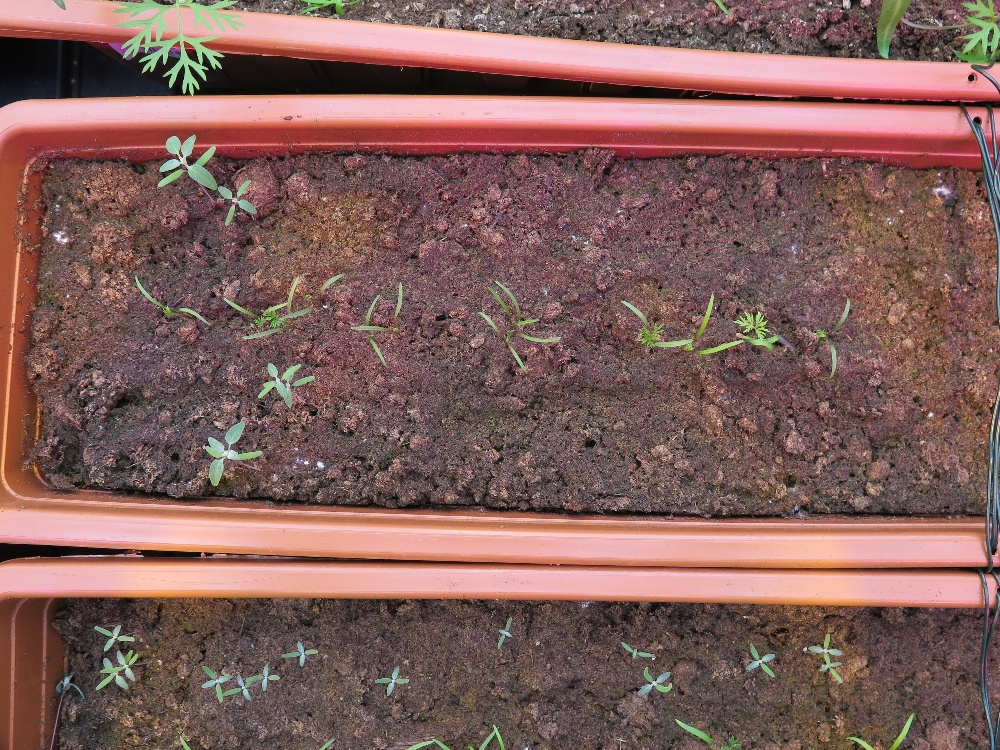crop: (291, 261, 421, 381), (459, 272, 557, 372), (121, 263, 227, 349), (205, 272, 316, 351), (789, 295, 880, 383), (593, 288, 691, 358), (496, 272, 566, 363), (698, 292, 755, 392), (718, 301, 802, 367), (393, 717, 532, 750), (673, 706, 746, 750), (841, 713, 905, 749)
weed: (152, 117, 262, 233), (200, 420, 268, 495), (87, 645, 146, 695), (227, 654, 280, 706), (734, 633, 782, 688), (627, 665, 682, 706), (266, 361, 314, 406), (191, 658, 227, 704), (373, 663, 416, 701), (484, 611, 527, 647), (616, 636, 664, 665), (800, 629, 846, 658), (816, 649, 848, 690), (284, 624, 309, 674), (98, 622, 137, 654)
